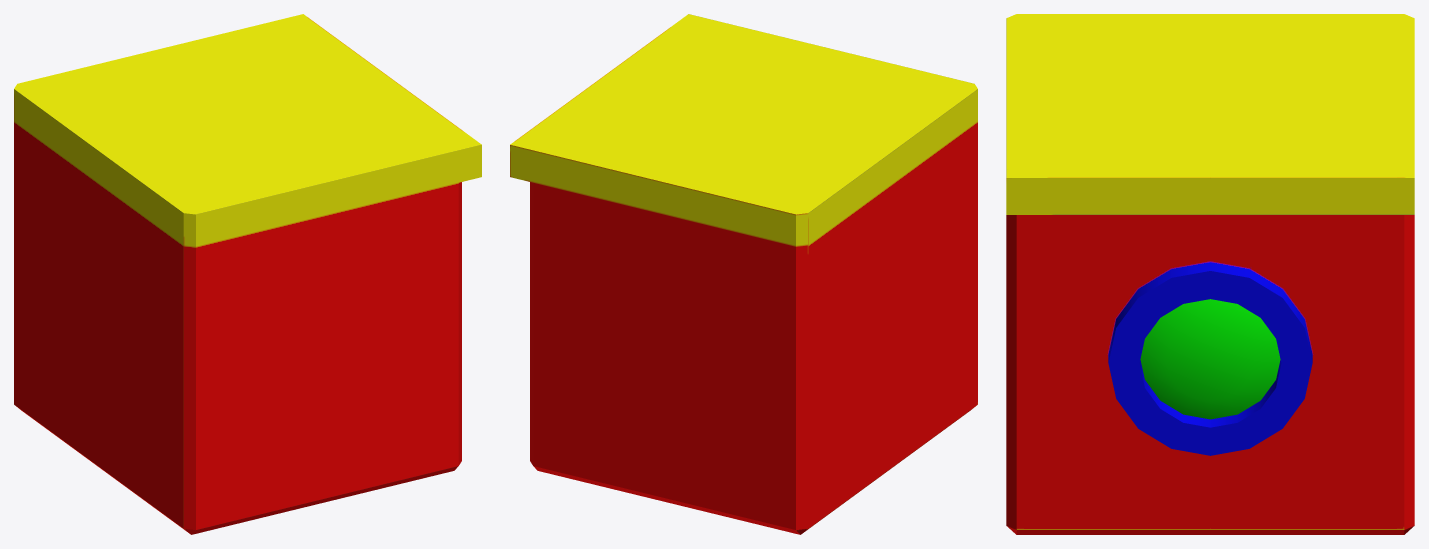
Rendered from STFwashing_machine.glb.
3 views of the same model, side by side, from view 1: azimuth 30°, elevation 25°; view 2: azimuth 150°, elevation 25°; view 3: azimuth 270°, elevation 25° (orthographic). The views are drawn at different scales.
Parts seen in each view (by area): view 1: STFwashing_machine; view 2: STFwashing_machine; view 3: STFwashing_machine.
Boxes of the visible parts, box(x1,y1,x2,y2) form: STFwashing_machine: box(14, 14, 481, 534); STFwashing_machine: box(510, 14, 977, 534); STFwashing_machine: box(1006, 14, 1414, 534).
Bounding box in the file's own units: 0.9527 × 1 × 1.
1 material, 1 textured.
